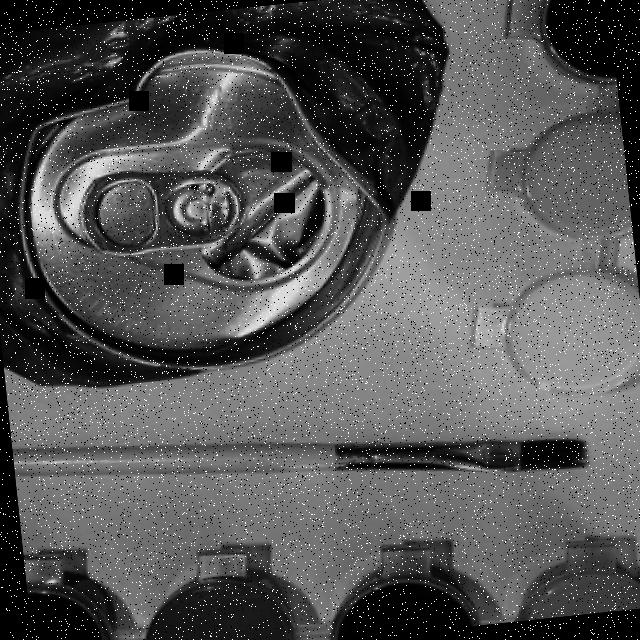can: (0, 0, 479, 397)
